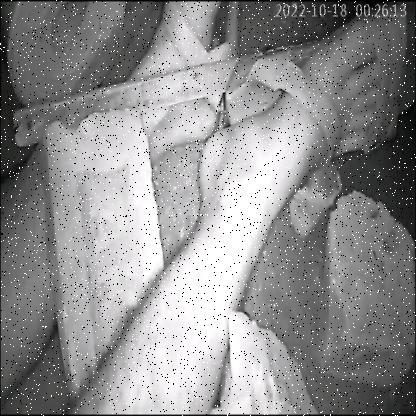leg: (72, 0, 386, 416)
